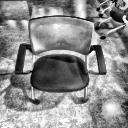chair_success: (12, 14, 109, 106)
